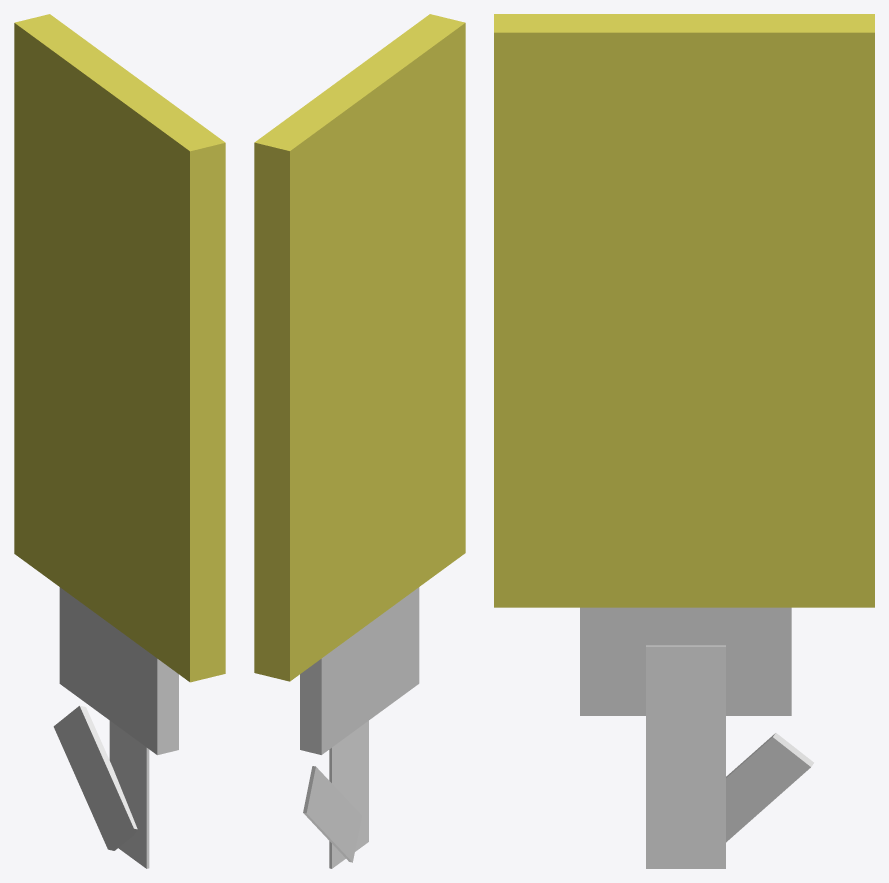
The model's file is TLD.fbx.
3 renders of one model, left to right at view 1: azimuth 30°, elevation 25°; view 2: azimuth 150°, elevation 25°; view 3: azimuth 270°, elevation 25°, orthographic. The views are drawn at different scales.
Parts seen in each view (by area): view 1: Cube.002, Cube.003, Cube.005, Cube.004; view 2: Cube.002, Cube.003, Cube.004, Cube.005; view 3: Cube.002, Cube.004, Cube.003, Cube.005.
Boxes of the visible parts, x1=… form: Cube.002: x1=14, y1=14, x2=225, y2=682; Cube.003: x1=59, y1=587, x2=178, y2=755; Cube.005: x1=53, y1=705, x2=137, y2=850; Cube.004: x1=109, y1=721, x2=149, y2=868; Cube.002: x1=254, y1=14, x2=465, y2=681; Cube.003: x1=300, y1=587, x2=419, y2=754; Cube.004: x1=329, y1=721, x2=368, y2=868; Cube.005: x1=303, y1=766, x2=361, y2=862; Cube.002: x1=494, y1=14, x2=874, y2=607; Cube.004: x1=646, y1=645, x2=725, y2=868; Cube.003: x1=580, y1=607, x2=791, y2=715; Cube.005: x1=726, y1=733, x2=813, y2=842.
Bounding box in the file's own units: 0.2347 × 4.89 × 2.01.
